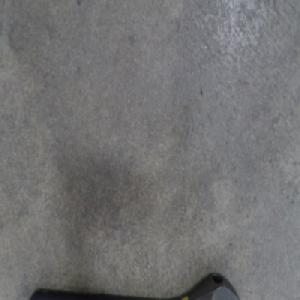AdjustableWrench: (31, 273, 240, 300)
